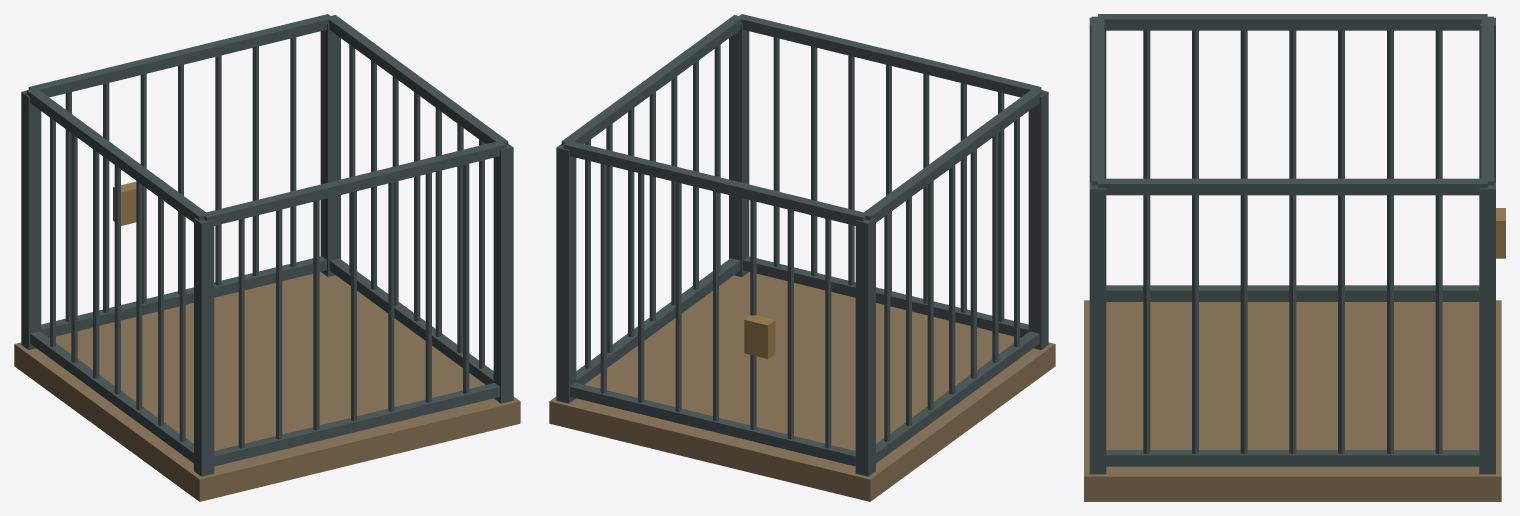
Rendered from S2_PrisonCage.fbx.
3 renders of one model, left to right at view 1: azimuth 30°, elevation 25°; view 2: azimuth 150°, elevation 25°; view 3: azimuth 270°, elevation 25°, orthographic. The views are drawn at different scales.
Parts seen in each view (by area): view 1: S2_PrisonCage; view 2: S2_PrisonCage; view 3: S2_PrisonCage.
Part boxes in pixels (box(x1,y1,x2,y2)): S2_PrisonCage: box(14, 14, 520, 501); S2_PrisonCage: box(549, 14, 1055, 501); S2_PrisonCage: box(1084, 14, 1505, 501).
Size of the model in its own units: 3 by 2.5 by 3.03.
